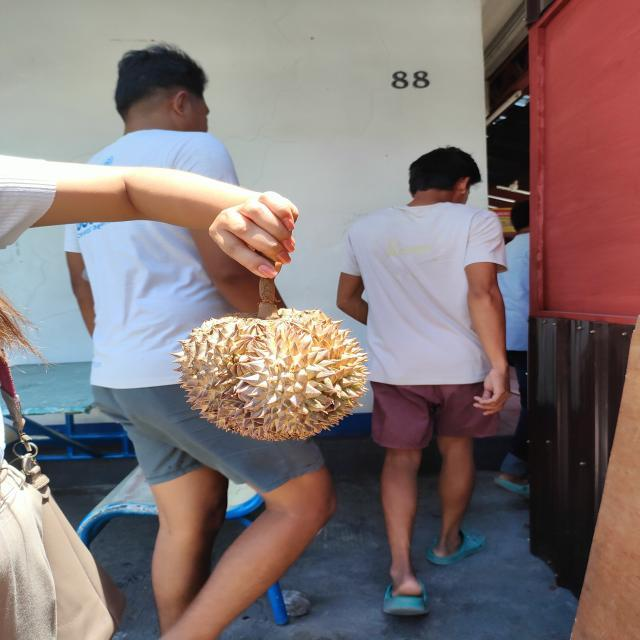mature: (169, 306, 373, 442)
